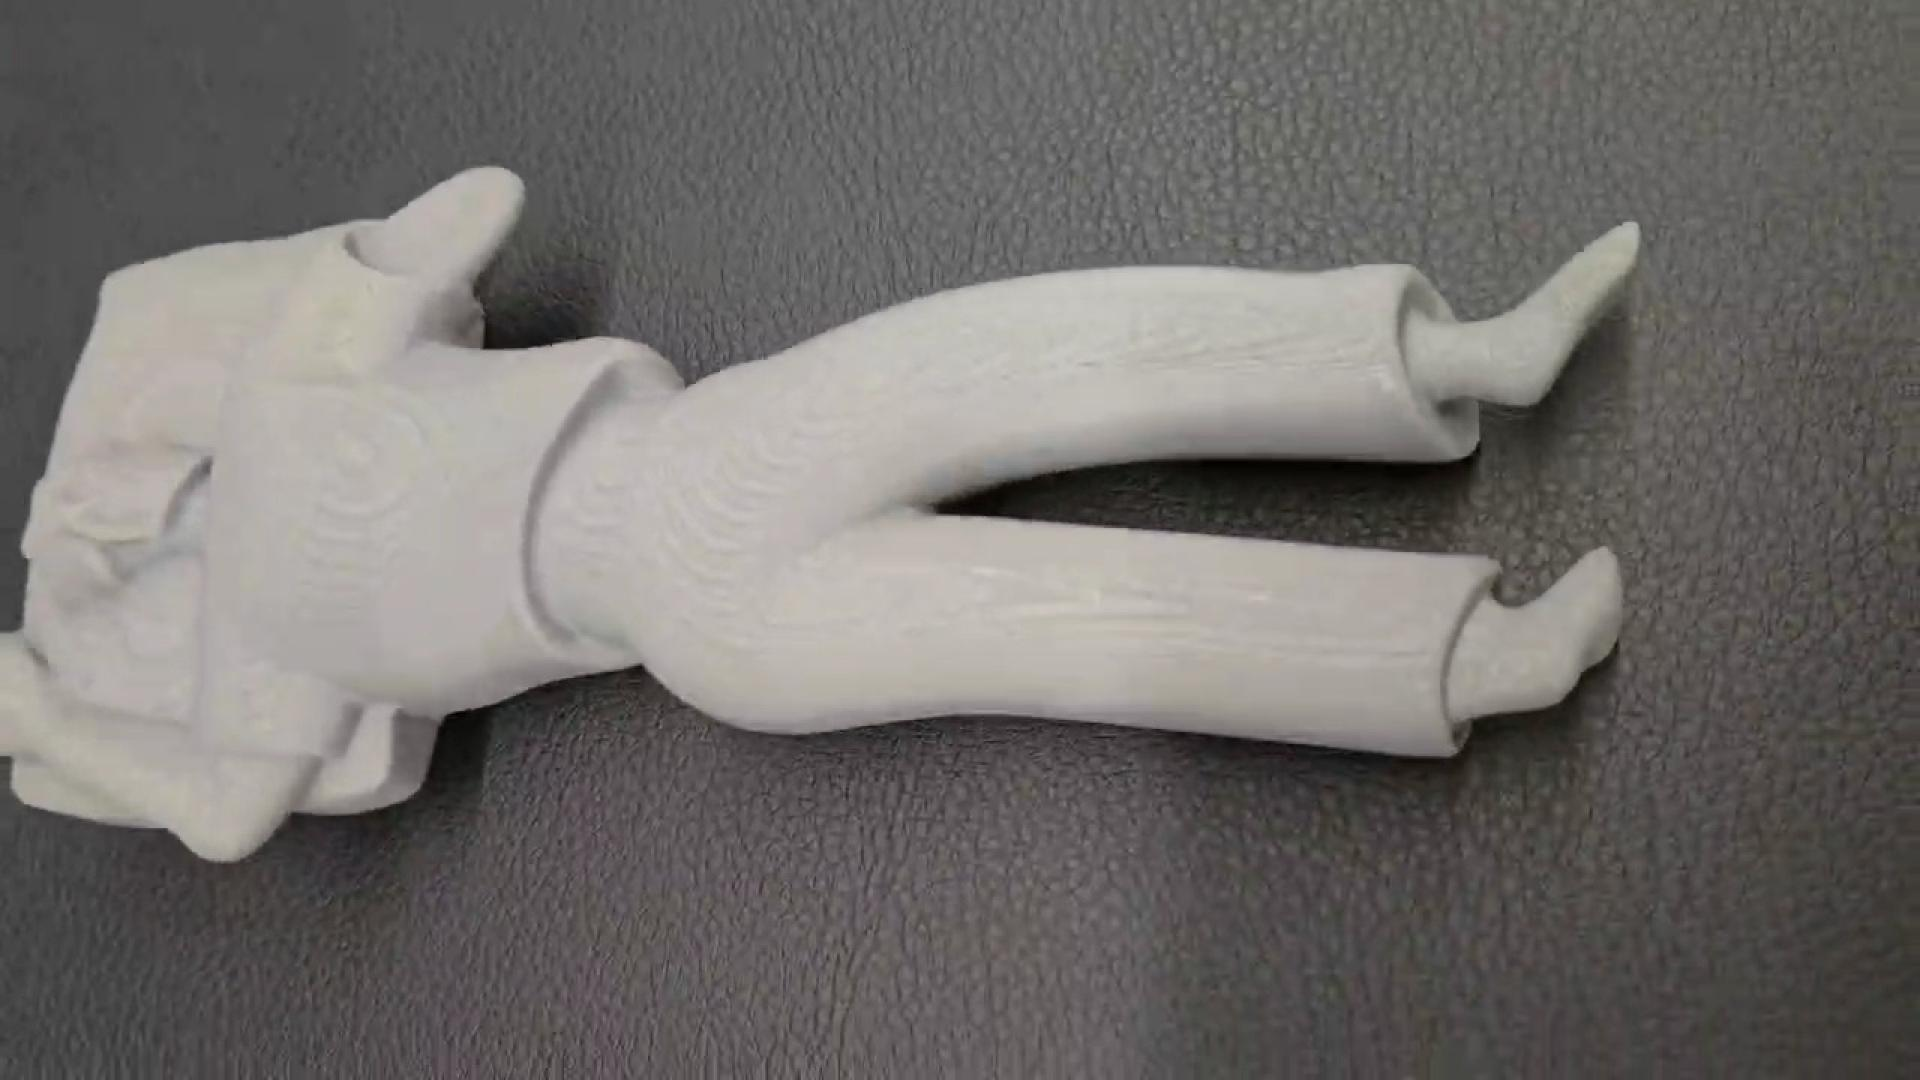Bad-style: (0, 160, 1644, 862)
